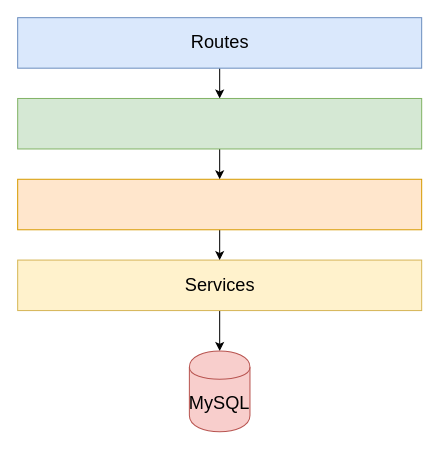
Image size: 439x449. Some labels were removed from this diagram. The centre of each missing label's shape, as x and y in pixels:
"Controllers" goes at [219,204].
"Middlewares (Authentication and Cache)" goes at [219,123].
